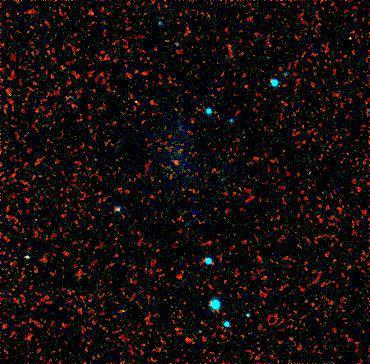star: (159, 148, 189, 178)
